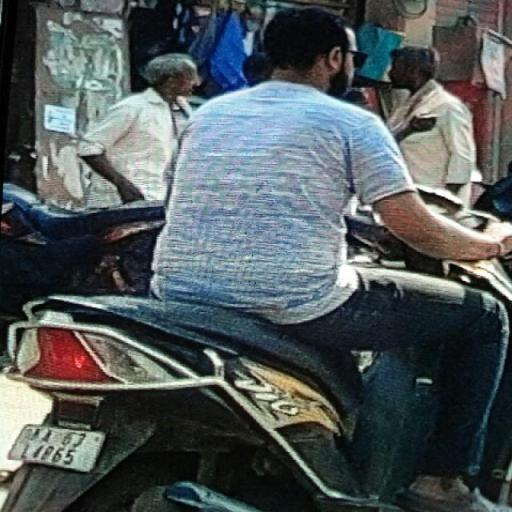bike: (4, 5, 512, 512)
numberplate: (10, 413, 108, 483)
withouthelmet: (264, 10, 350, 84)
